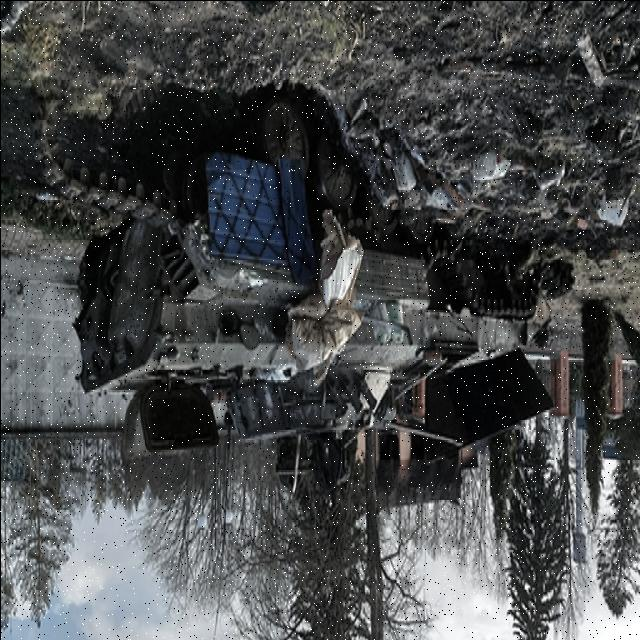APC-IFV: (72, 156, 550, 487)
